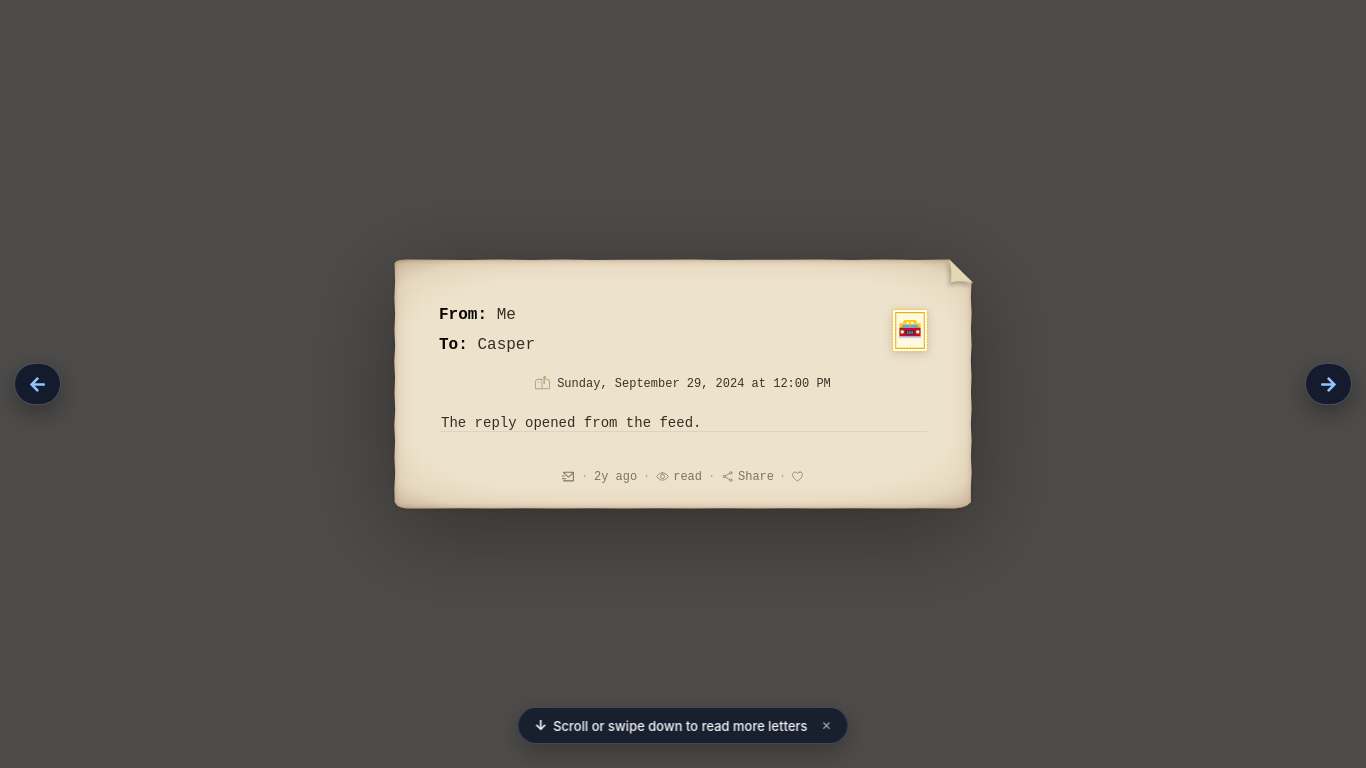
Reply Preview and Swipe Navigation Flow › a feed reply swipes through its chronological thread and announces both boundaries
Expected: the icon with class "reply-navigation-arrow--left" is shown, [29,376,46,392]
Expected: the icon with class "reply-navigation-arrow--right" is shown, [1320,376,1337,392]
Press the mouse on the element with class "letter-modal-overlay" at (683,384), box [0,0,1365,767]
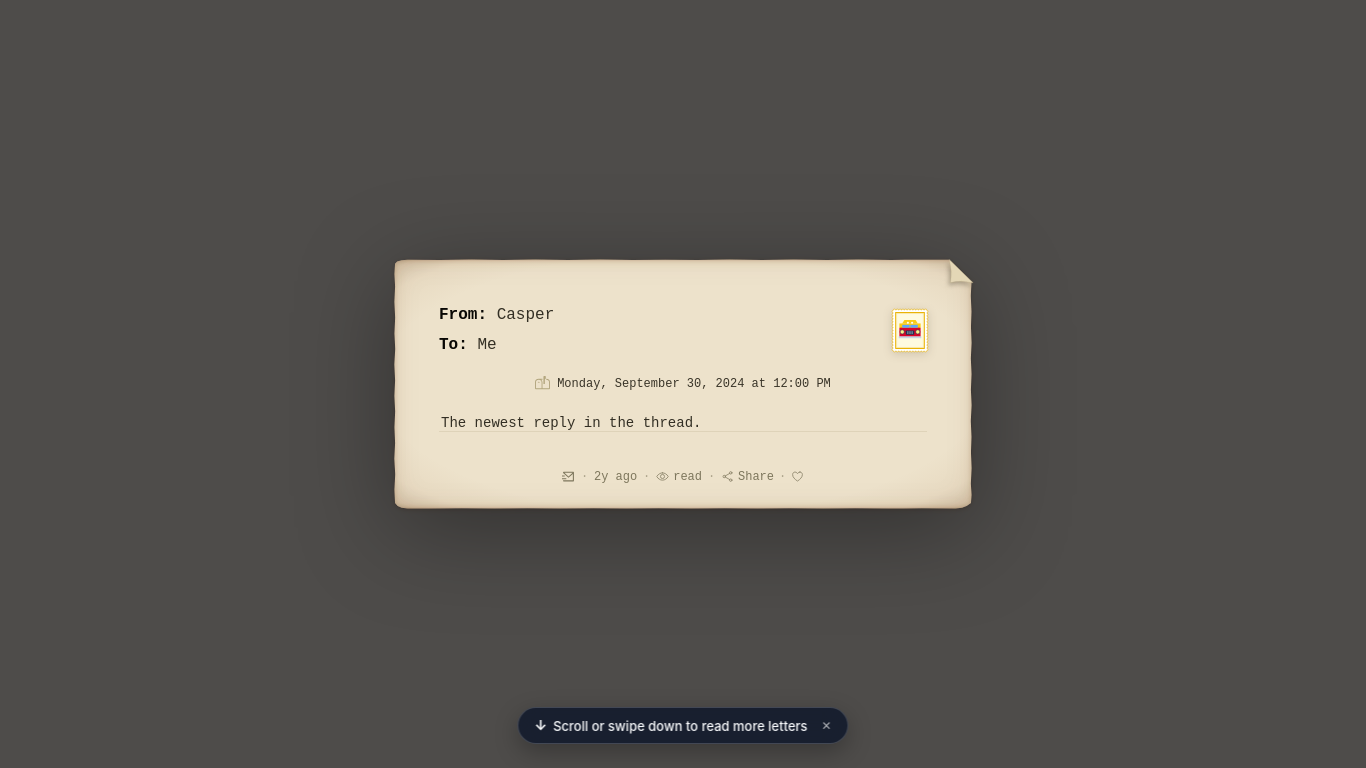
Expected: the element with class "letter-paper" shows "The newest reply in the thread.", [441,415,702,431]
Press the mouse on the element with class "letter-modal-overlay" at (683,384), box [0,0,1365,767]
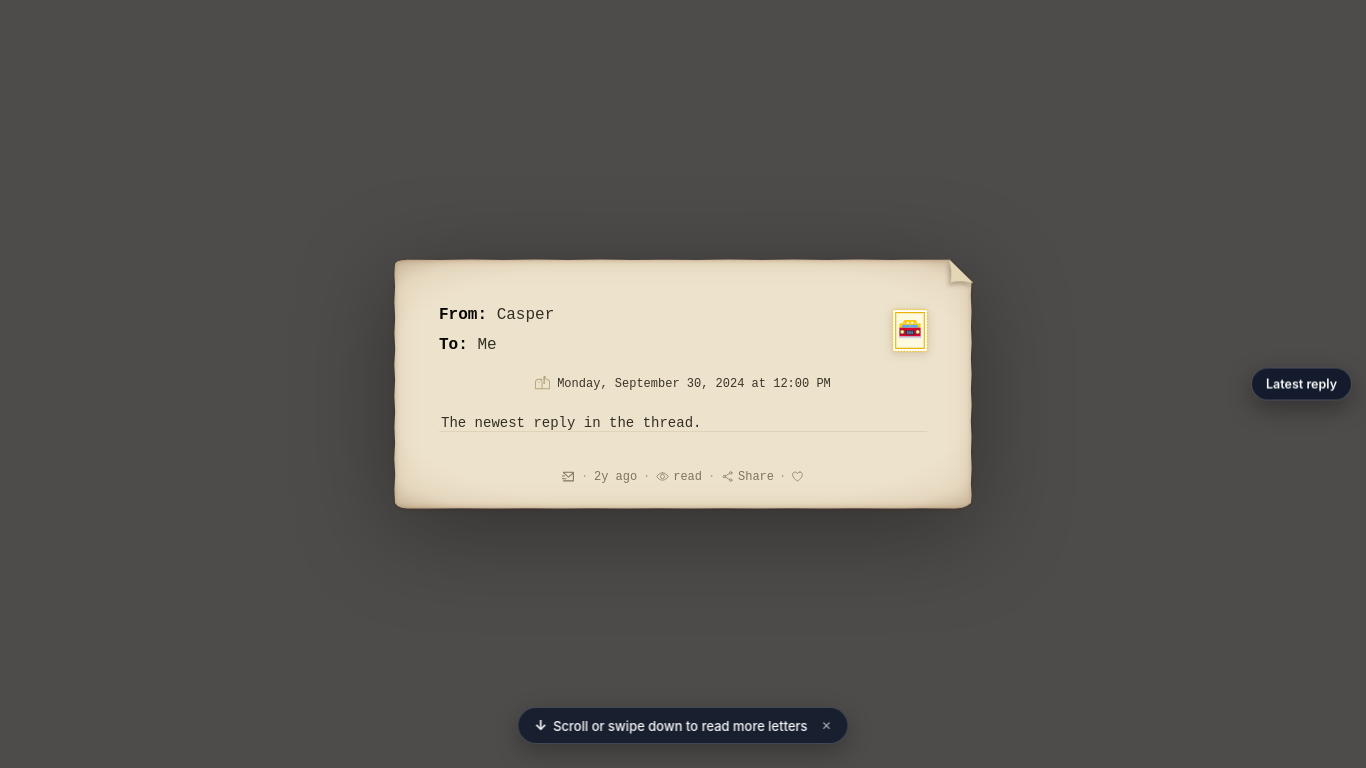
Expected: the message named "reply thread boundary" reads "Latest reply", [1266,376,1337,392]
Press the mouse on the element with class "letter-modal-overlay" at (683,384), box [0,0,1365,767]
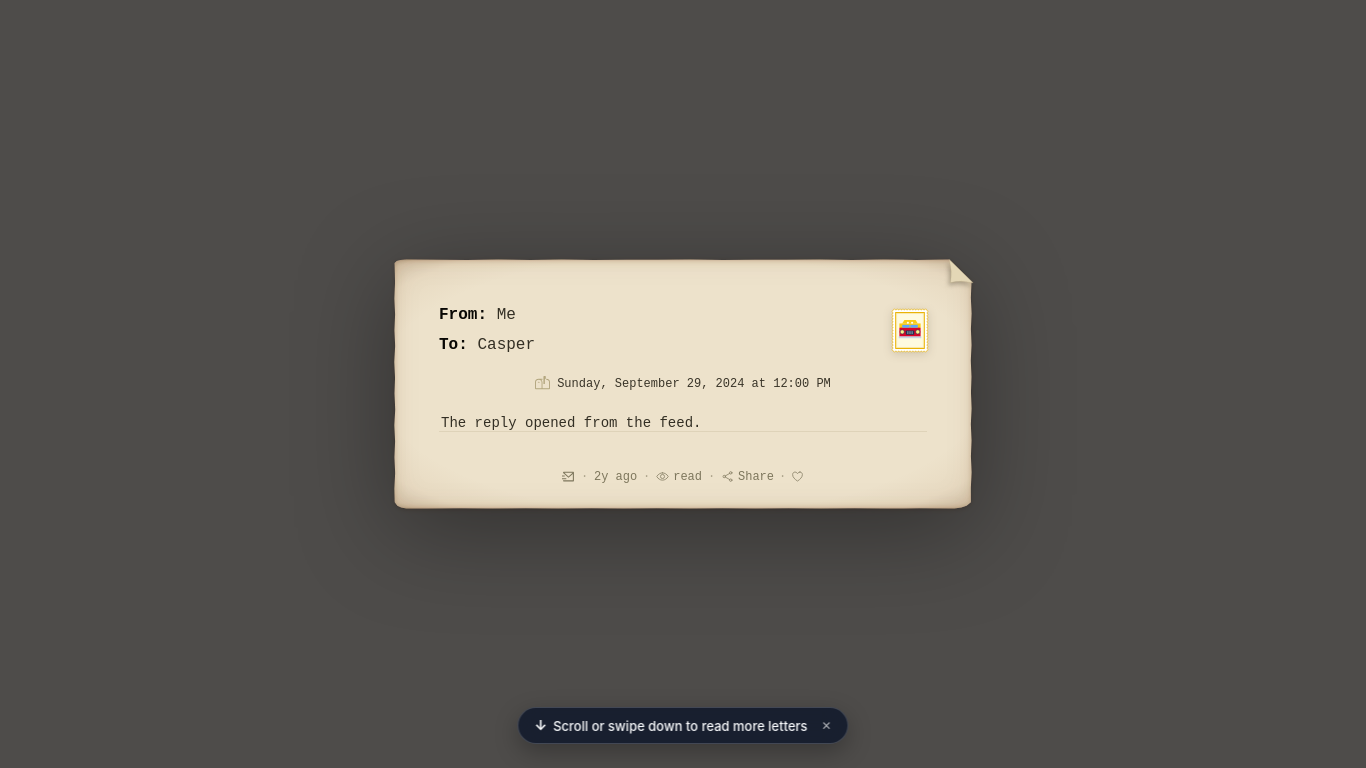
Press the mouse on the element with class "letter-modal-overlay" at (683,384), box [0,0,1365,767]
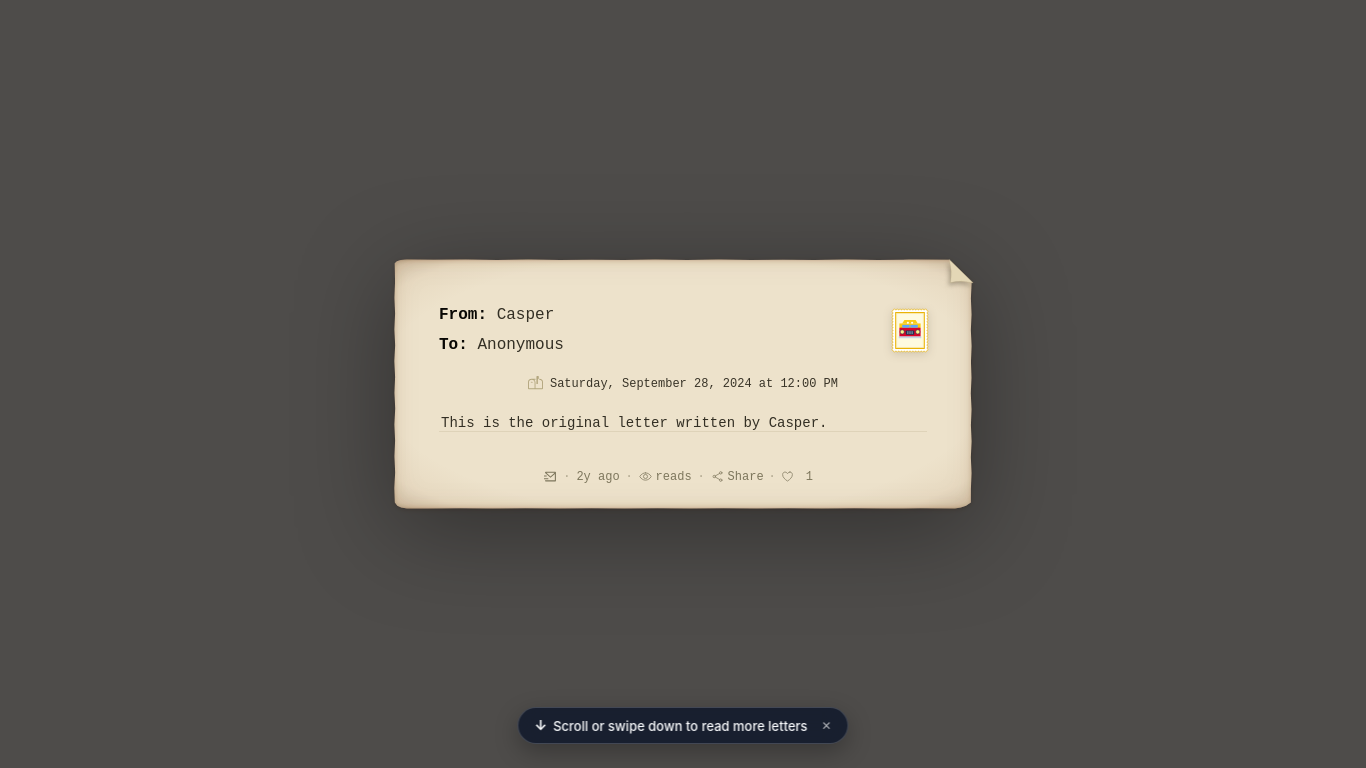
Press the mouse on the element with class "letter-modal-overlay" at (683,384), box [0,0,1365,767]
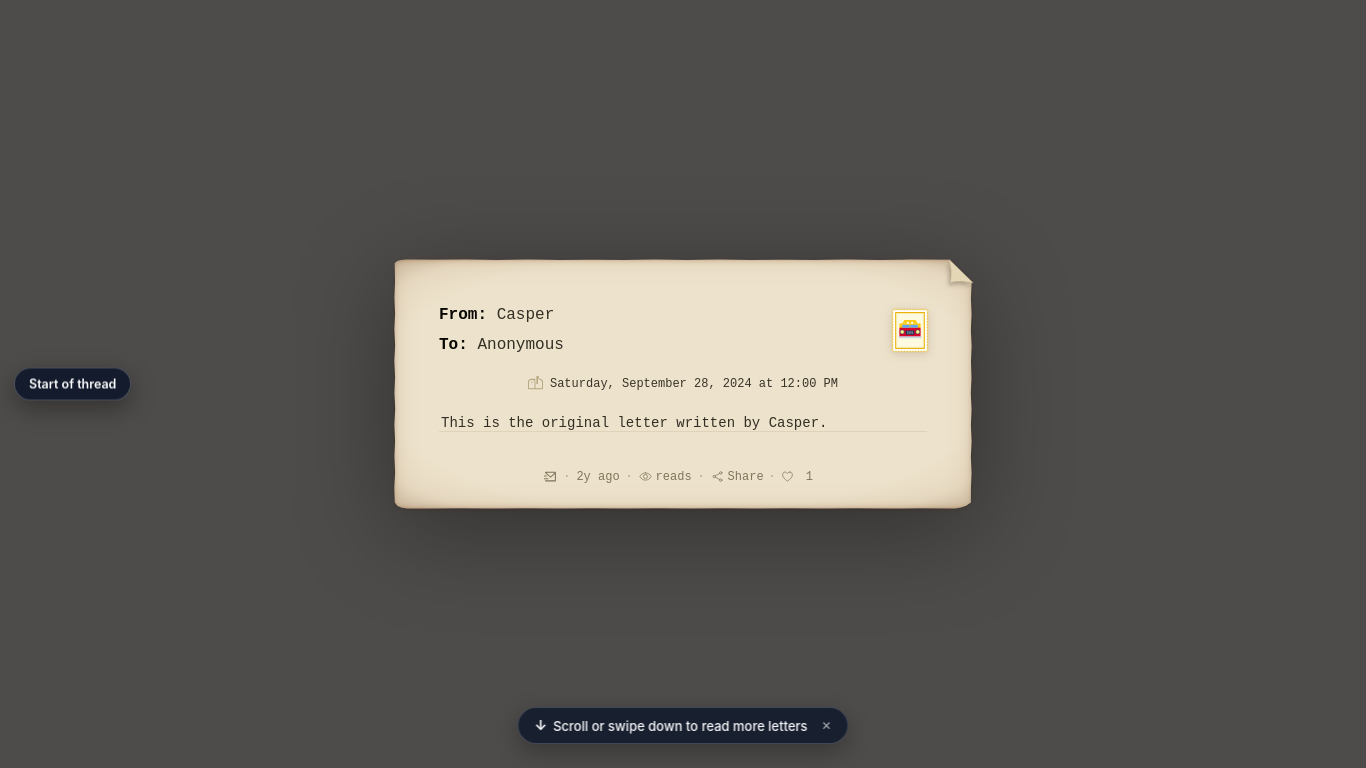
Expected: the message named "reply thread boundary" reads "Start of thread", [29,376,116,392]
